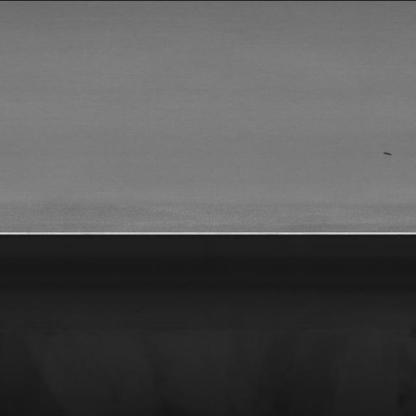inclusion: (372, 147, 398, 160)
